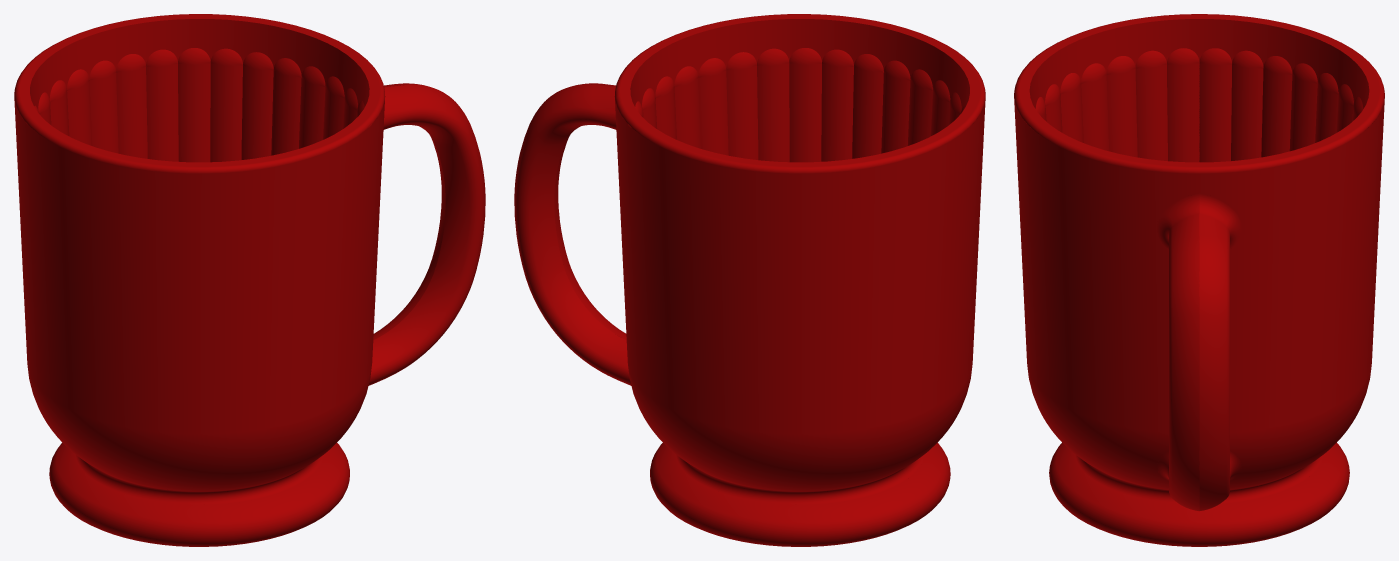
The model's file is CM-MUG029.glb.
3 views of the same model, side by side, from view 1: azimuth 30°, elevation 25°; view 2: azimuth 150°, elevation 25°; view 3: azimuth 270°, elevation 25° (orthographic).
Bounding box in the file's own units: 0.0985 × 0.0865 × 0.0715.
